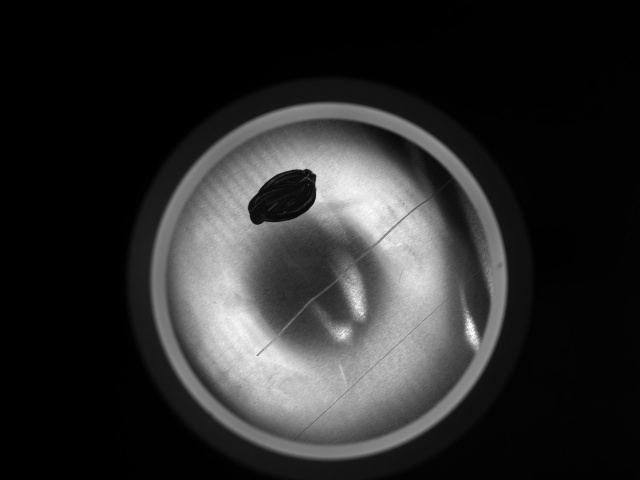ca_shang: (256, 184, 443, 364), (291, 264, 482, 439)
zang_wu: (246, 167, 318, 226)
